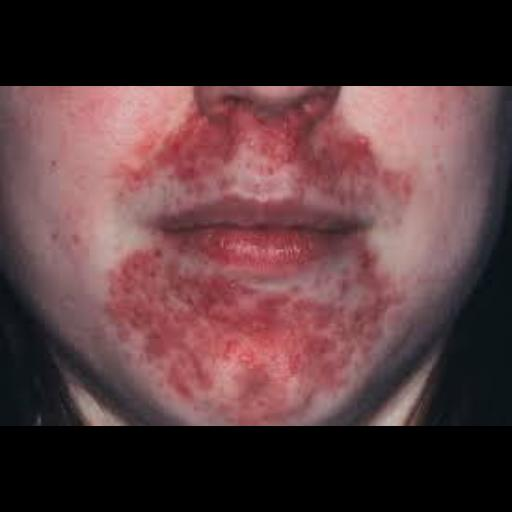Skin_Lesion: (100, 258, 224, 338), (236, 274, 310, 360), (336, 278, 392, 378), (246, 120, 304, 162), (234, 364, 276, 412), (178, 133, 220, 167), (385, 172, 415, 204), (171, 369, 195, 401)
